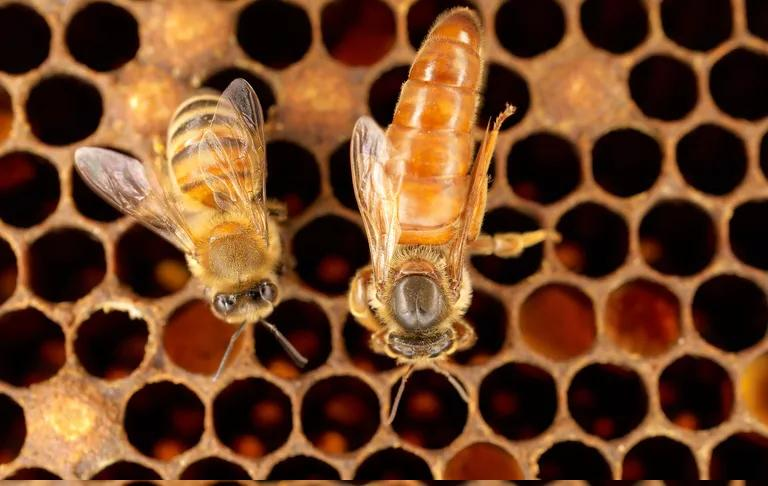Queen-Bee: (348, 8, 558, 400)
worker-bee: (75, 78, 306, 376)
